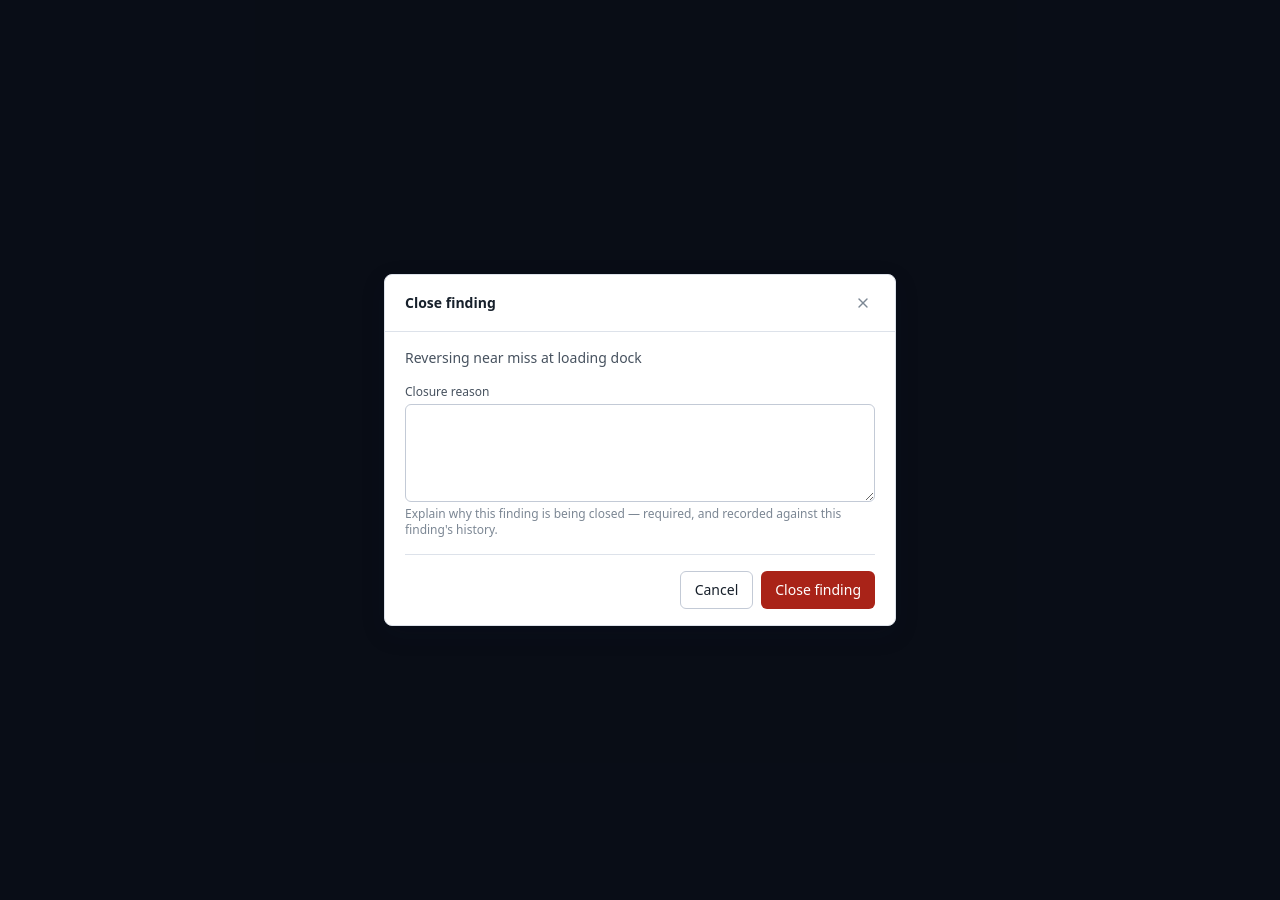
Test: FindingCloseDialog › on failure, shows an actionable error and never fabricates closure
In the text box labelled "Closure reason": (640, 453) [405,404,875,502], type "Attempting closure."
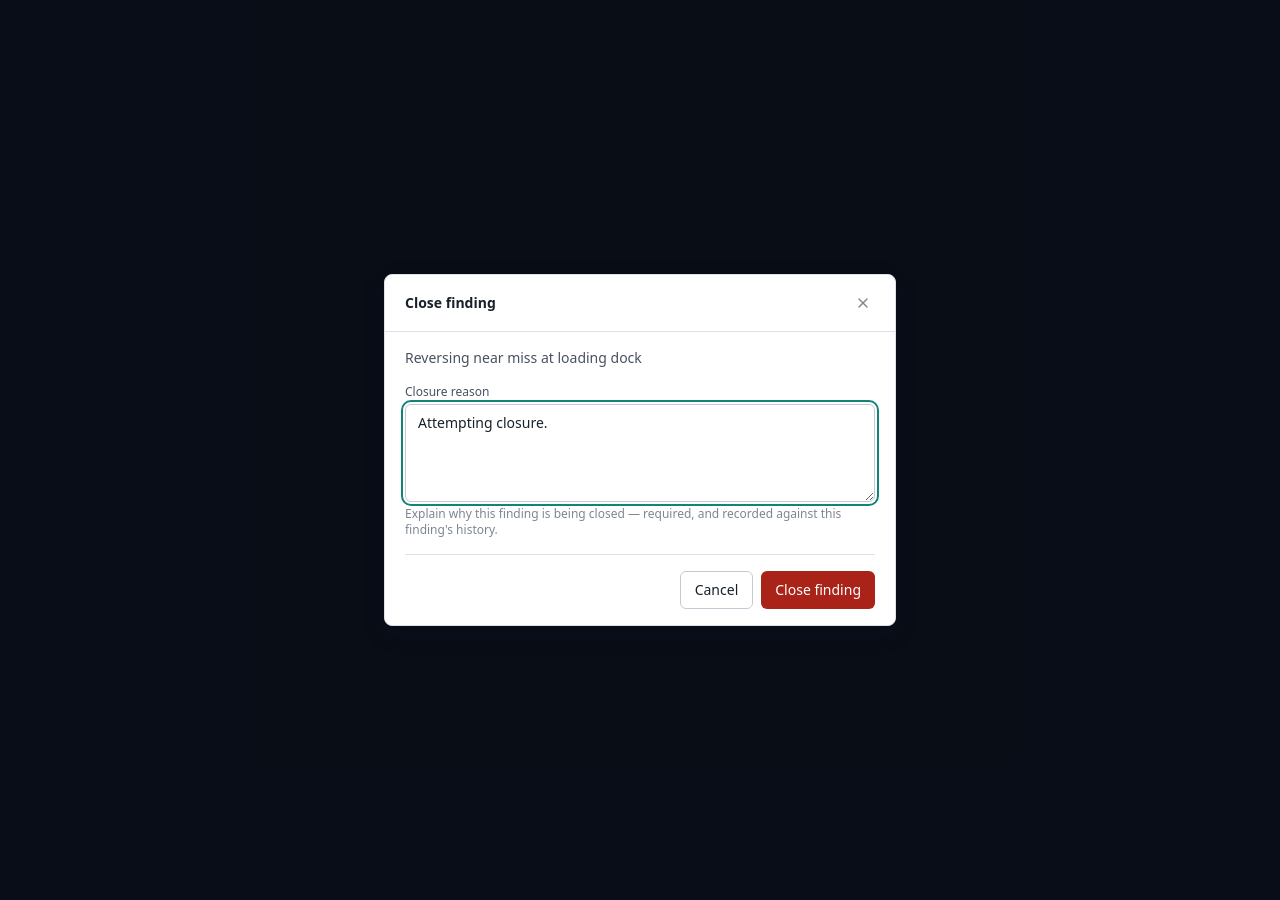
Click the button "Close finding": (818, 590) [761,571,875,609]
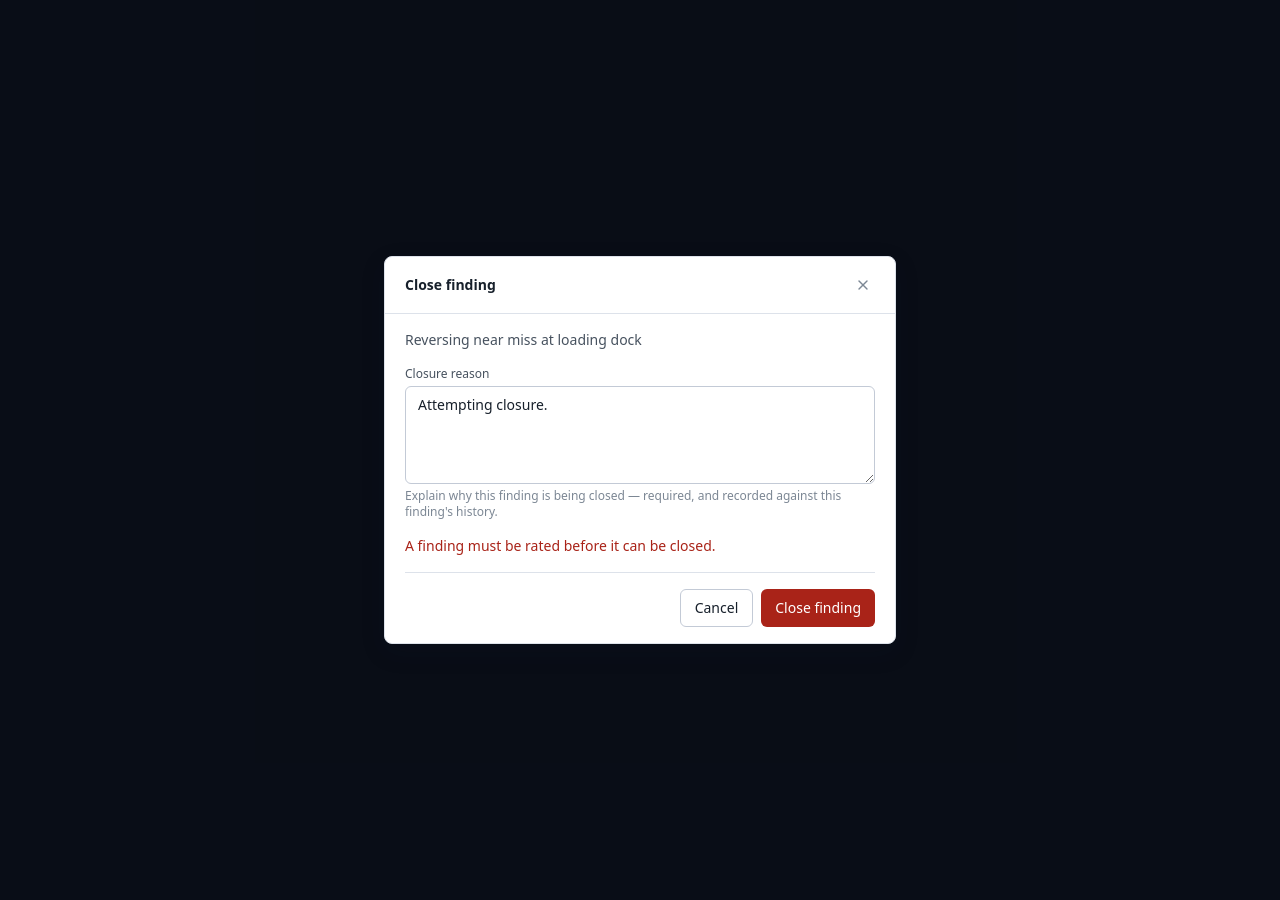
Check: the message reads "A finding must be rated before it can be closed.", box [405,536,716,555]
